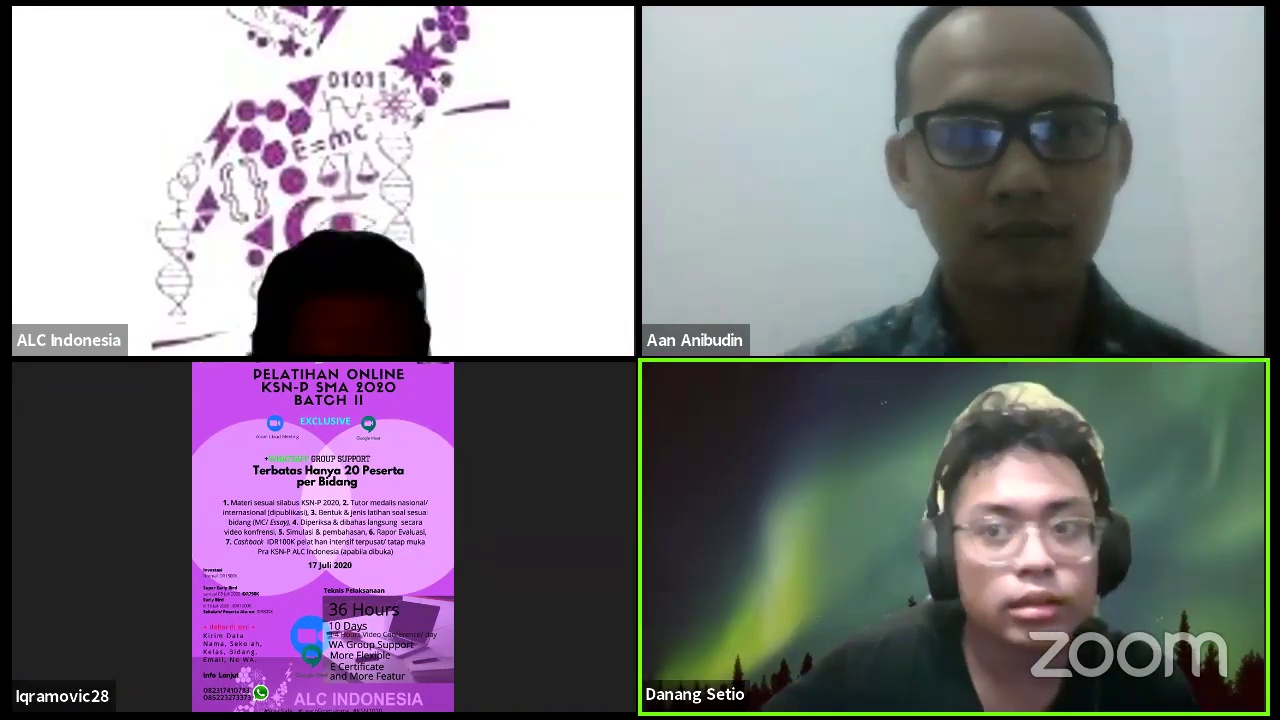Distracted: (256, 260, 421, 356)
Not Distracted: (876, 24, 1135, 298), (919, 417, 1125, 644)
